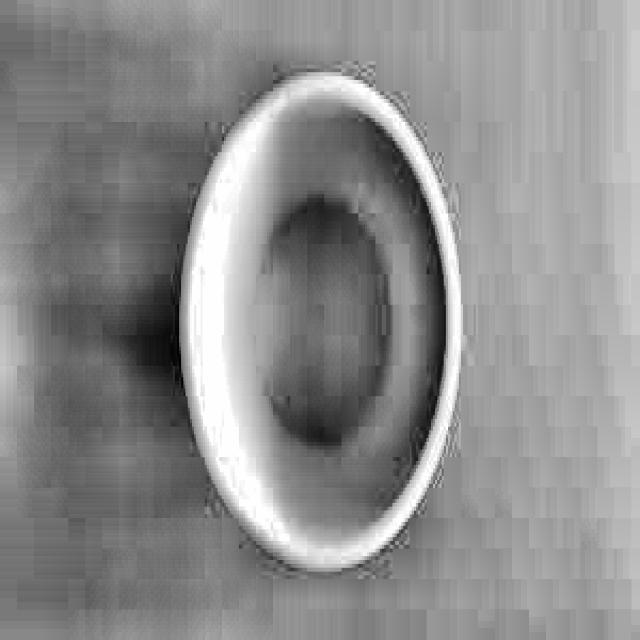Cup: (166, 64, 466, 588)
